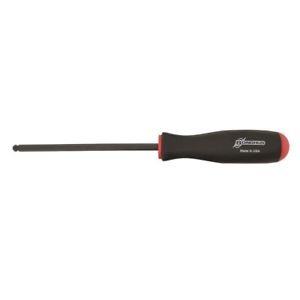screwdriver: (9, 122, 292, 177)
